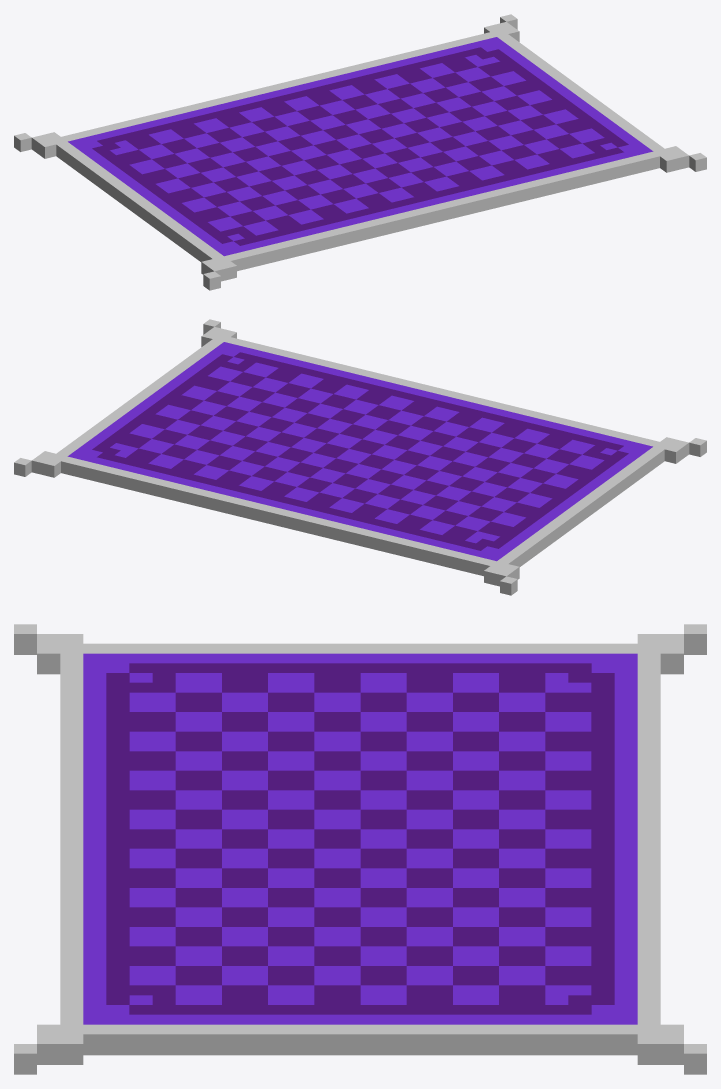
The model's file is Living Room Carpet 2.FBX.
3 renders of one model, top to bottom at view 1: azimuth 30°, elevation 25°; view 2: azimuth 150°, elevation 25°; view 3: azimuth 270°, elevation 25°, orthographic. The views are drawn at different scales.
Parts seen in each view (by area): view 1: Living Room Carpet 2; view 2: Living Room Carpet 2; view 3: Living Room Carpet 2.
Boxes of the visible parts, x1,y1,x2,y2 form: Living Room Carpet 2: [14, 14, 706, 290]; Living Room Carpet 2: [14, 319, 706, 595]; Living Room Carpet 2: [14, 624, 706, 1074].
Size of the model in its own units: 13.64 by 0.3099 by 9.3.
Materials: 4 (1 with a texture image).
